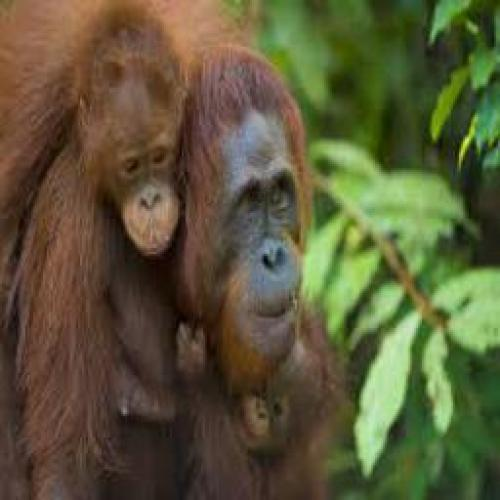orangutan-endangered: (26, 43, 316, 499), (14, 12, 192, 268), (175, 324, 337, 500)
